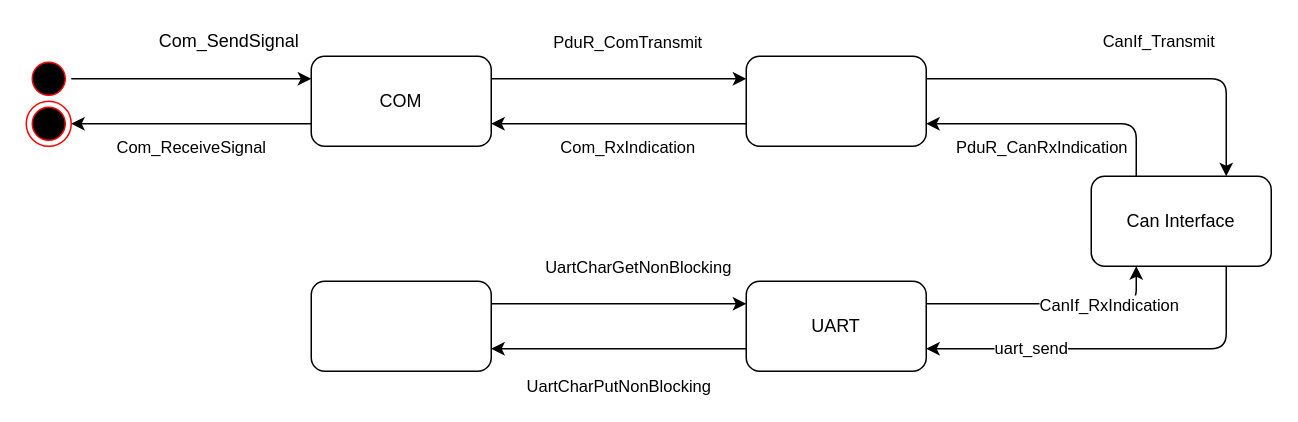
Some shapes in this 1298 by 422 pixel diagram are drawn without their labels. Each missing label, with the box of its shape:
PDU Router: (745, 55, 926, 146)
UART Buffers: (310, 280, 491, 371)
